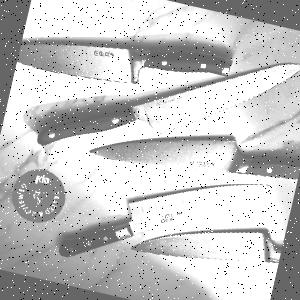knife: (23, 54, 300, 147), (48, 182, 282, 260), (84, 135, 300, 189), (128, 222, 275, 270)
